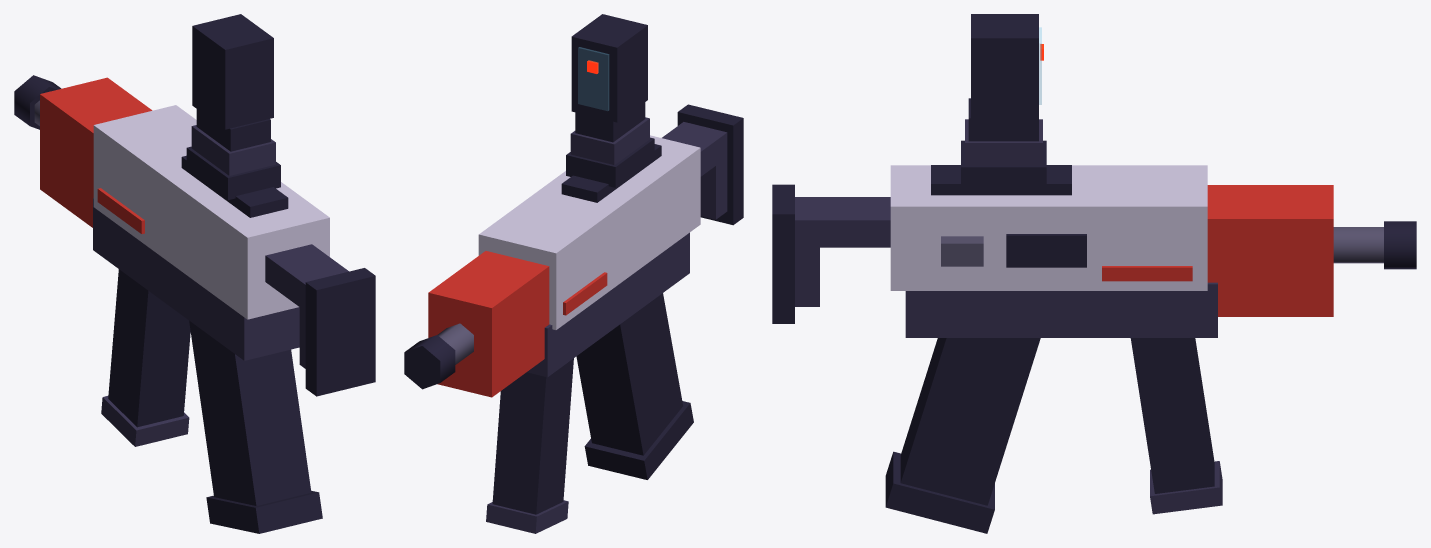
Rendered from compact_carbine.lod1.glb.
3 views of the same model, side by side, from view 1: azimuth 30°, elevation 25°; view 2: azimuth 150°, elevation 25°; view 3: azimuth 270°, elevation 25° (orthographic). The views are drawn at different scales.
Visible parts, largest first — view 1: item.compact_carbine.body, part.mag; view 2: item.compact_carbine.body, part.mag; view 3: item.compact_carbine.body, part.mag, part.bolt.
Part boxes in pixels (x1,y1,x2,y2): item.compact_carbine.body: (14,14,375,533); part.mag: (101,269,190,446); item.compact_carbine.body: (404,14,743,479); part.mag: (486,358,573,533); item.compact_carbine.body: (772,14,1416,533); part.mag: (1130,338,1222,514); part.bolt: (941,236,983,266).
Size of the model in its own units: 0.1484 by 0.6737 by 0.8.
